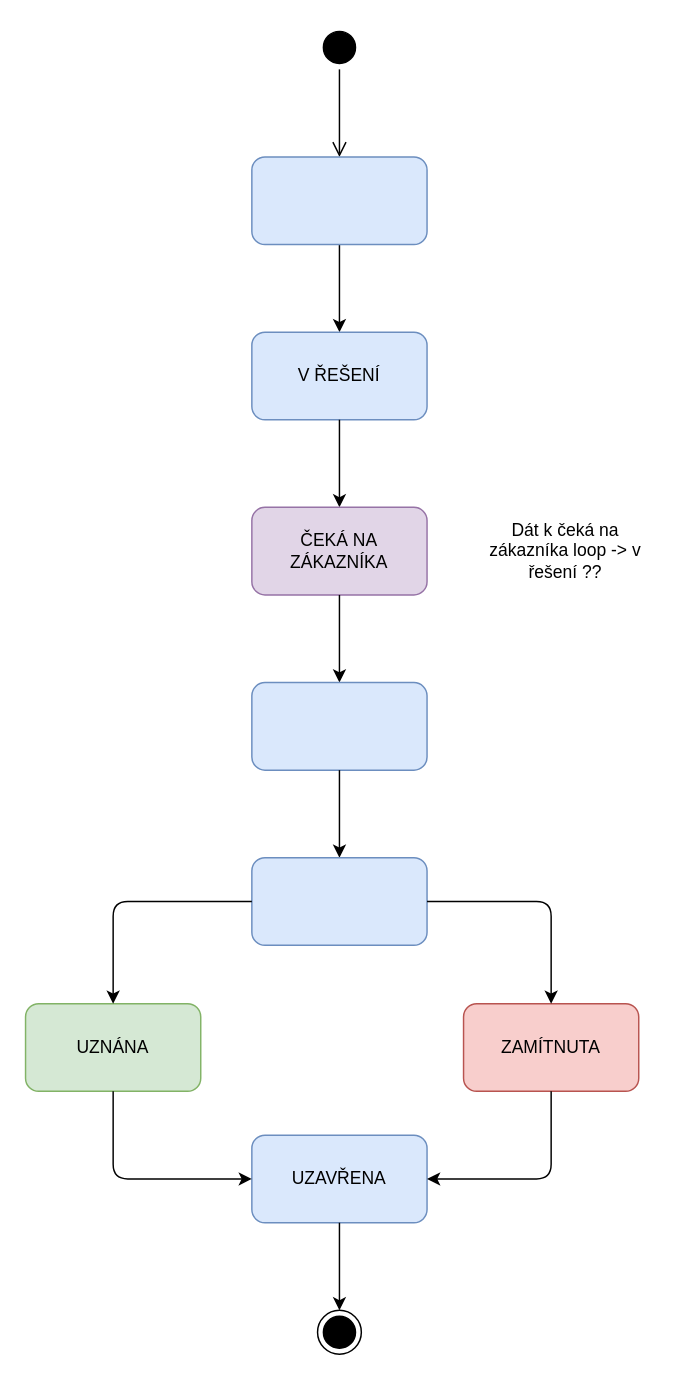
Image size: 679x1380. Some labels were removed from this diagram. The shapes that lost their labels are listed below. From the top down, each one's box as (x1, y1, x2, y2) in pixels, then its label:
(250, 155, 427, 245): NOVÁ
(250, 681, 427, 770): POSOUZENÍ
(250, 856, 427, 945): K ROZHODNUTÍ
